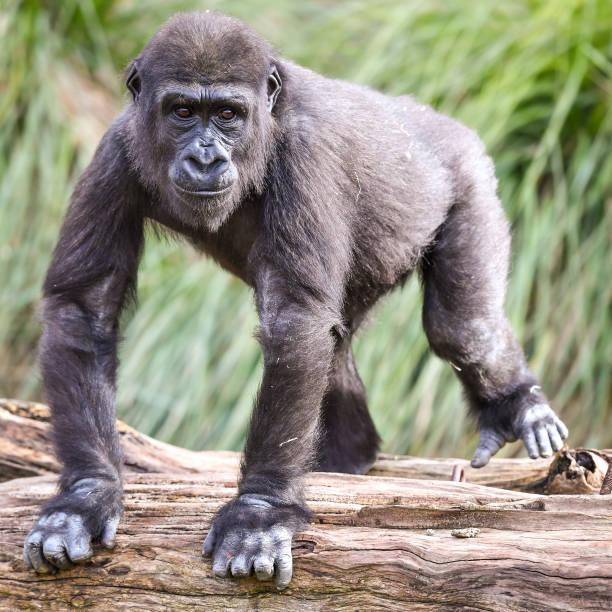gorille_Autres: (23, 15, 589, 603)
